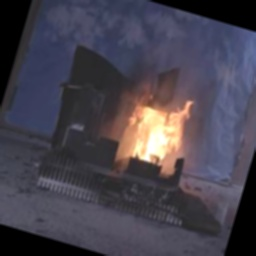fire: (115, 80, 206, 178)
